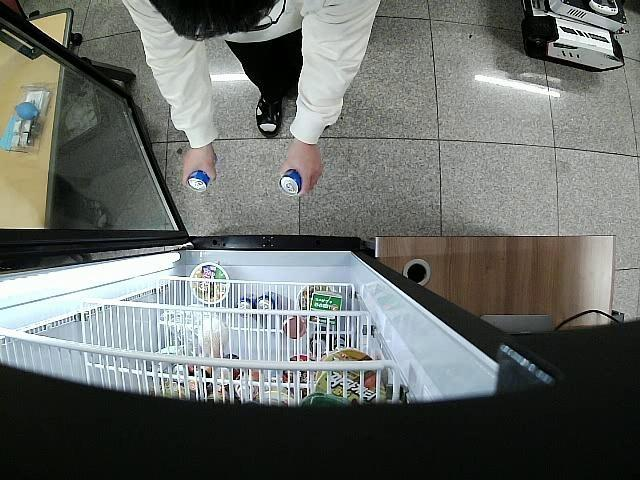15_letsbe: (188, 152, 218, 192), (279, 168, 302, 196)
